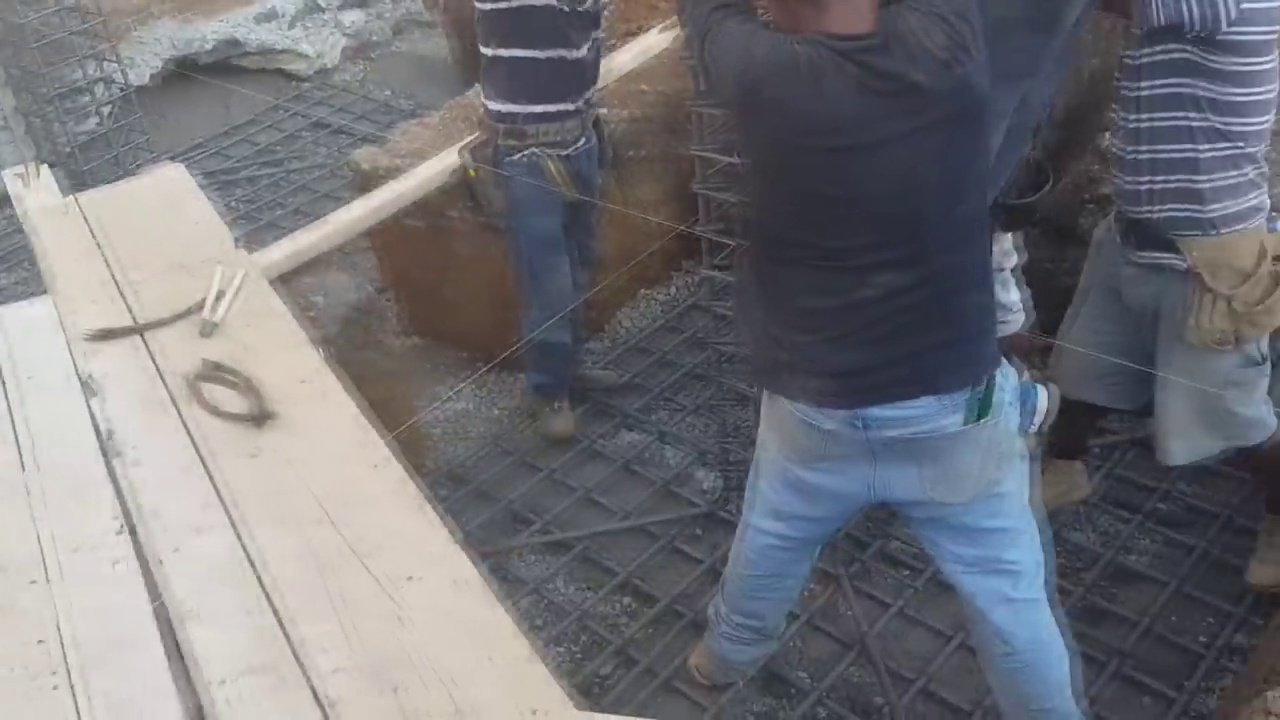person: (681, 0, 1113, 720), (1045, 0, 1278, 530), (453, 0, 617, 415)
